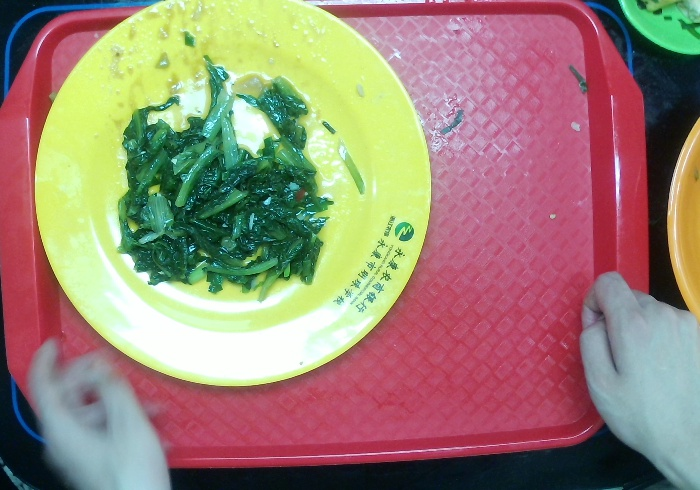YKMZ-Huang_Se_Mian_Pan: (32, 1, 433, 391)
